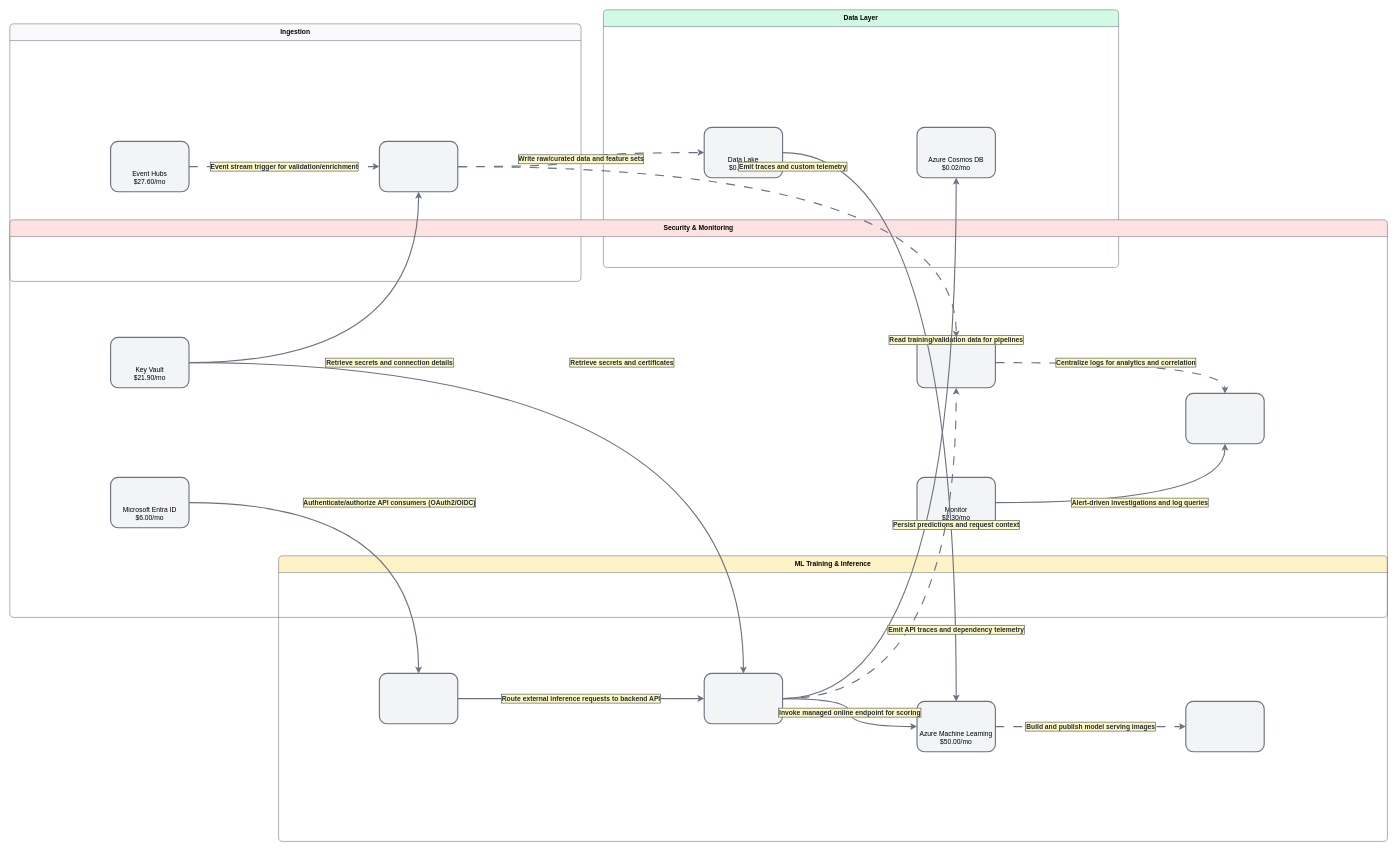
This 1397x851 diagram has some shape labels left out. Here are the shapes that lost their labels. From the top down, the centre of each, then its label:
the point at 418,166: Azure Functions
the point at 956,362: Application Insights $0.10/mo
the point at 1224,418: Log Analytics $2.30/mo
the point at 418,698: Api Management $100.00/mo
the point at 743,698: App Service $69.35/mo
the point at 1224,726: Container Registry $20.00/mo
